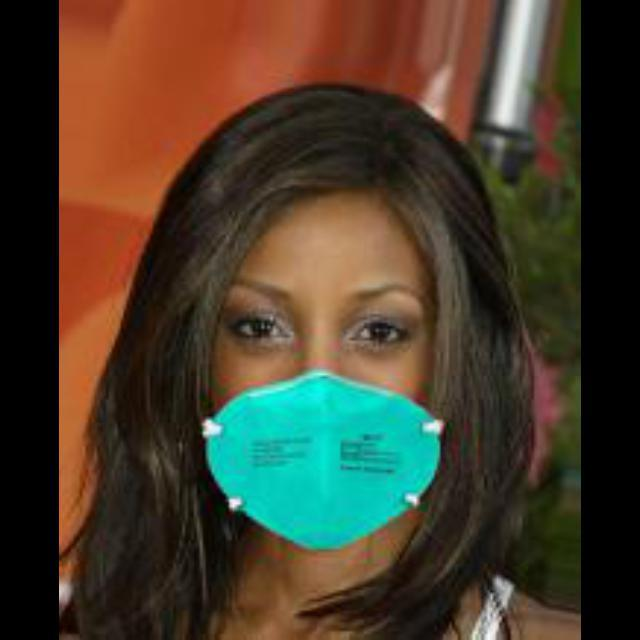suspicion: (184, 109, 480, 575)
